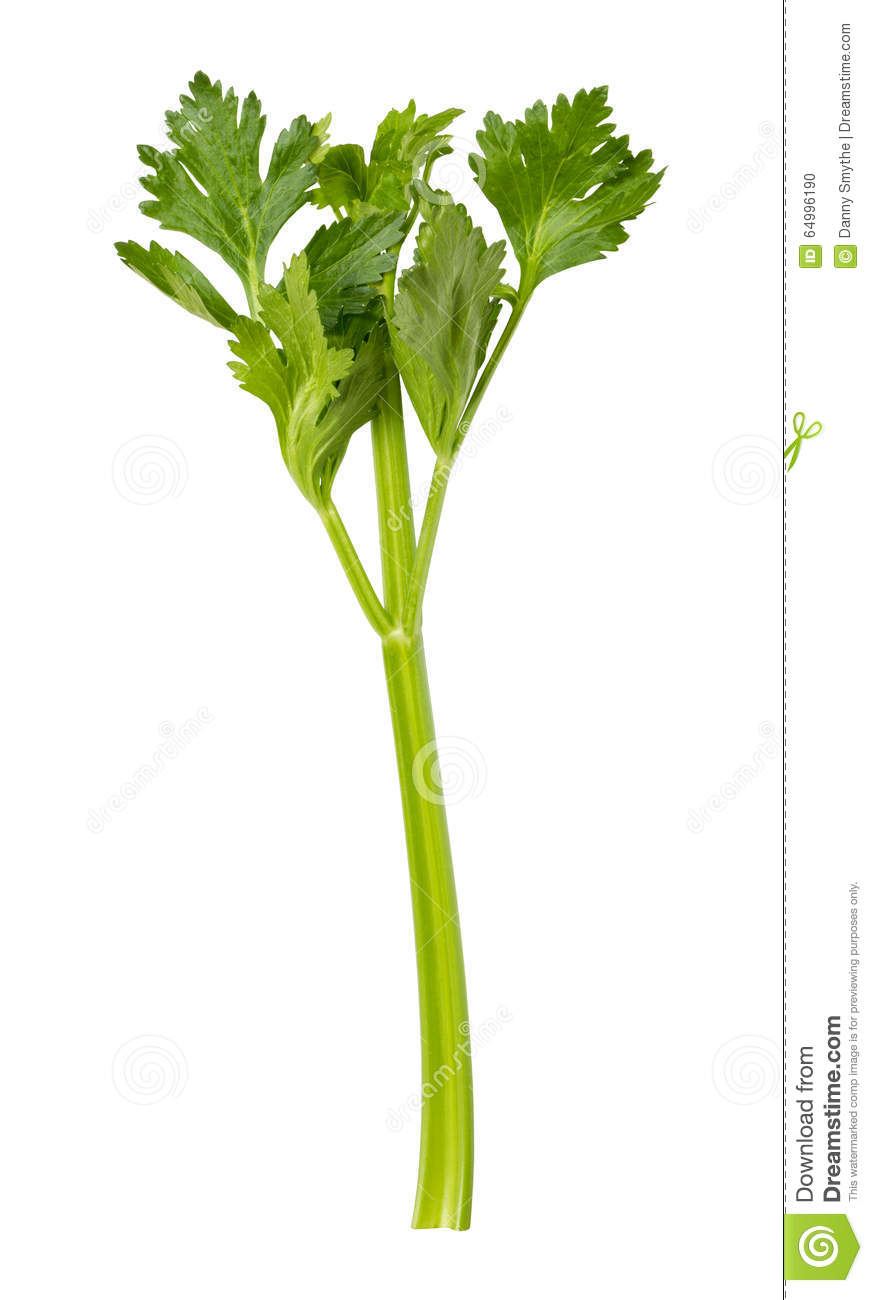Seledri: (84, 119, 774, 1189)
